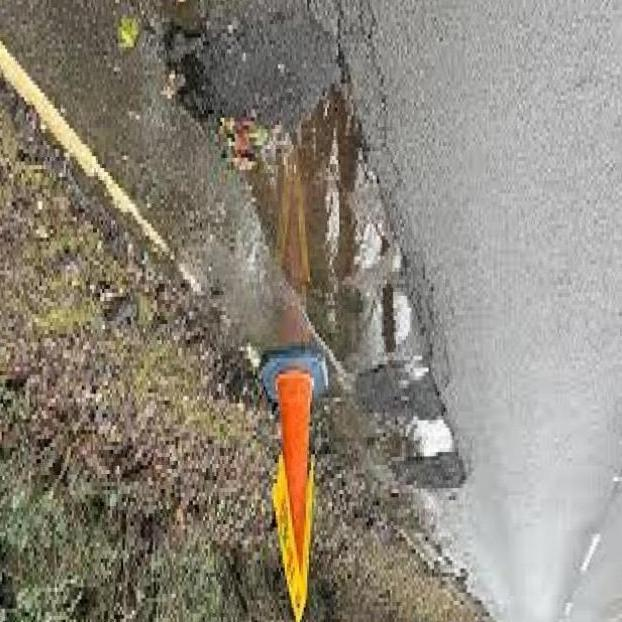pothole: (254, 70, 482, 514)
